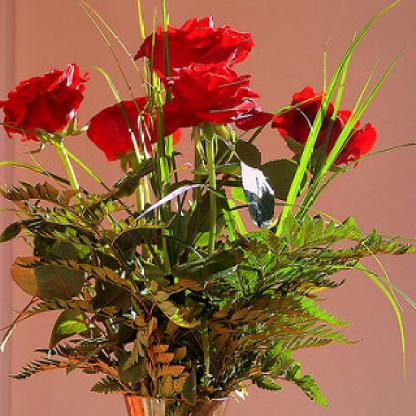ROSE-MAWAR: (3, 11, 384, 171)
